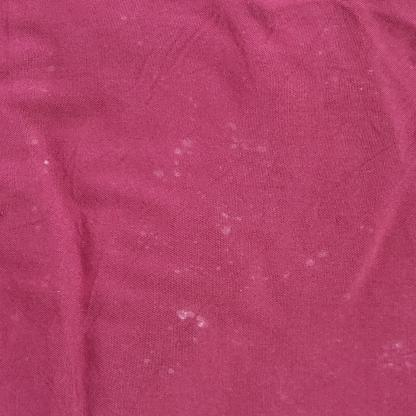spot: (220, 123, 272, 154), (303, 252, 332, 268), (176, 135, 196, 158), (146, 167, 170, 181), (167, 264, 195, 275), (216, 224, 233, 240), (38, 159, 54, 166)
